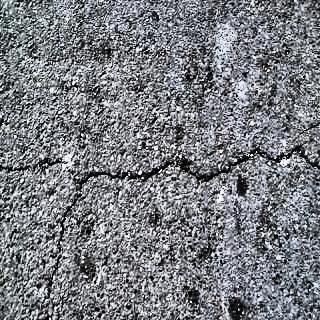crack: (84, 141, 320, 207), (47, 184, 86, 320), (2, 144, 82, 190)
